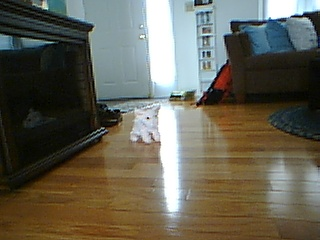piggy: (128, 103, 162, 145)
